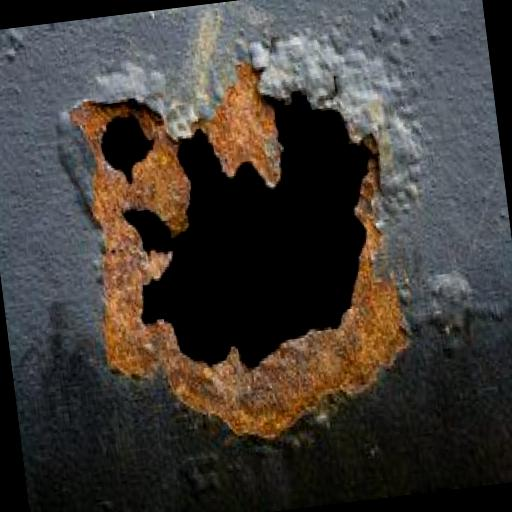segmentation: (71, 101, 404, 436), (254, 28, 419, 204), (201, 65, 280, 184), (138, 115, 186, 196)
